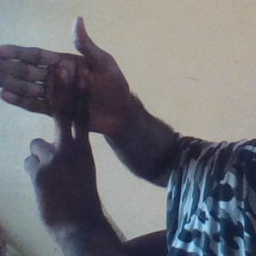N: (1, 13, 117, 189)
